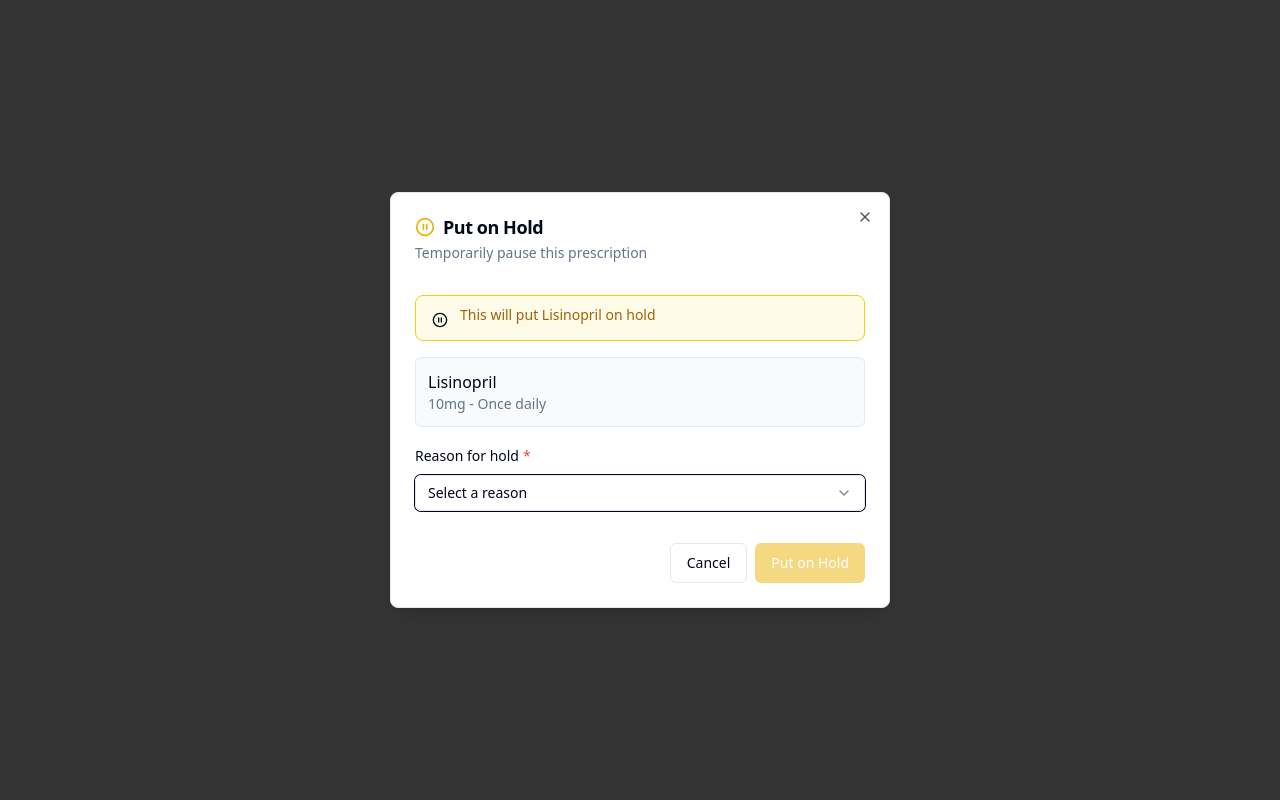
Test case: HoldDialog › Confirm Action › enables confirm button when reason selected
What coordinates should you click on to do the following:
click the dropdown
I would click on:
 (478, 492)
Its box is [415, 475, 865, 511].
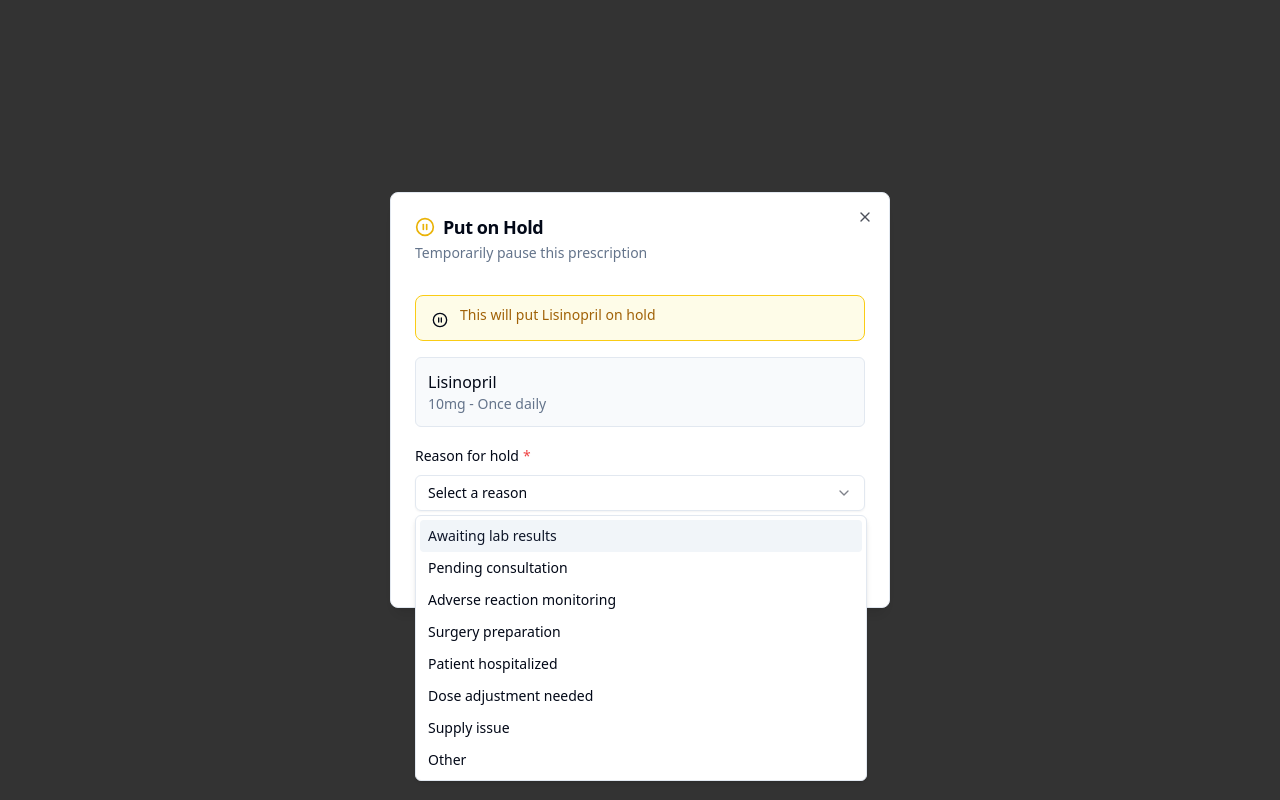
expect the text "Awaiting lab results" is shown: met, box [428, 526, 557, 546]
What coordinates should you click on to do the following:
click the option "Awaiting lab results"
I would click on:
 (492, 536)
Its box is [420, 520, 862, 552].
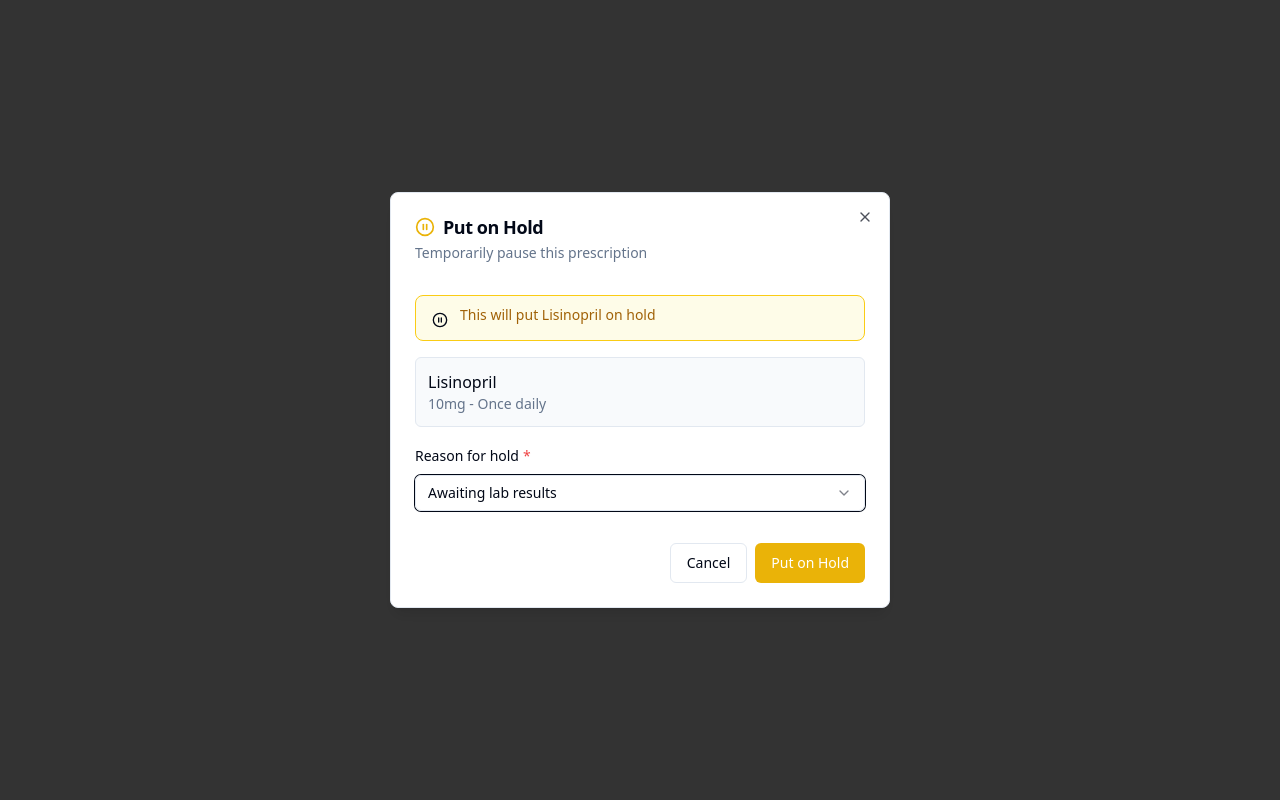
expect the button "Put on Hold" is enabled: met, box [755, 543, 865, 583]
